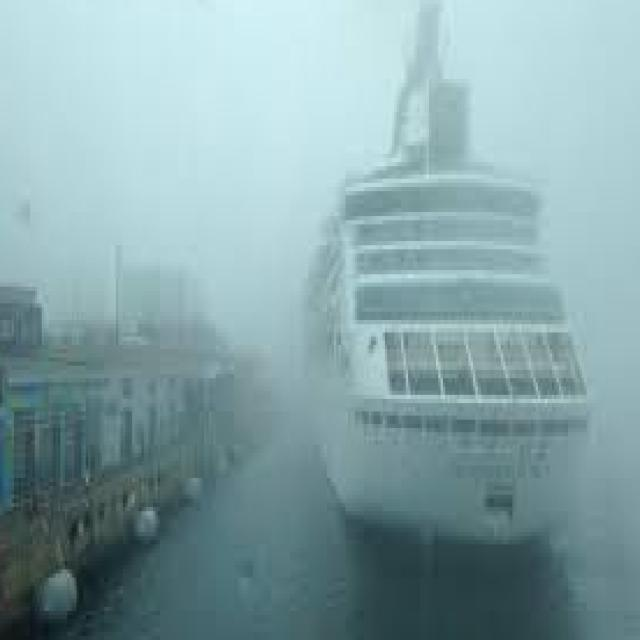passenger ship: (294, 75, 591, 549)
